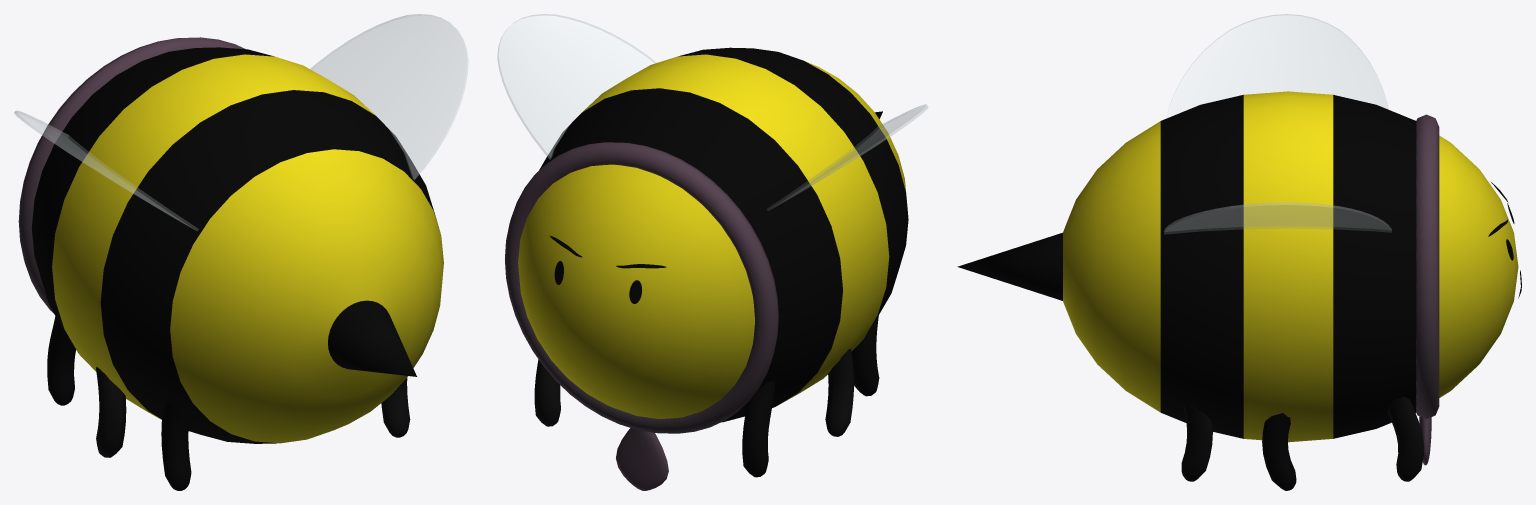
Rendered from Bee.glb.
3 views of the same model, side by side, from view 1: azimuth 30°, elevation 25°; view 2: azimuth 150°, elevation 25°; view 3: azimuth 270°, elevation 25° (orthographic). The views are drawn at different scales.
Parts seen in each view (by area): view 1: Body, Plane, Legs, BézierCircle, Plane.001; view 2: Body, BézierCircle, Plane, Legs, Vert, Plane.001; view 3: Body, Plane.001, BézierCircle, Legs, Plane.
Boxes of the visible parts, x1,y1,x2,y2 form: Body: (31, 47, 443, 443); Plane: (310, 14, 468, 179); Legs: (47, 316, 410, 490); BézierCircle: (18, 37, 245, 313); Plane.001: (14, 111, 198, 230); Body: (518, 47, 908, 422); BézierCircle: (505, 142, 778, 433); Plane: (497, 14, 656, 159); Legs: (534, 315, 879, 477); Vert: (616, 428, 668, 490); Plane.001: (767, 104, 928, 210); Body: (957, 91, 1518, 442); Plane.001: (1166, 14, 1388, 117); BézierCircle: (1416, 114, 1439, 418); Legs: (1181, 396, 1423, 490); Plane: (1164, 203, 1391, 234).
Size of the model in its own units: 1.74 by 1.53 by 2.19.
2 materials, 2 textured.
